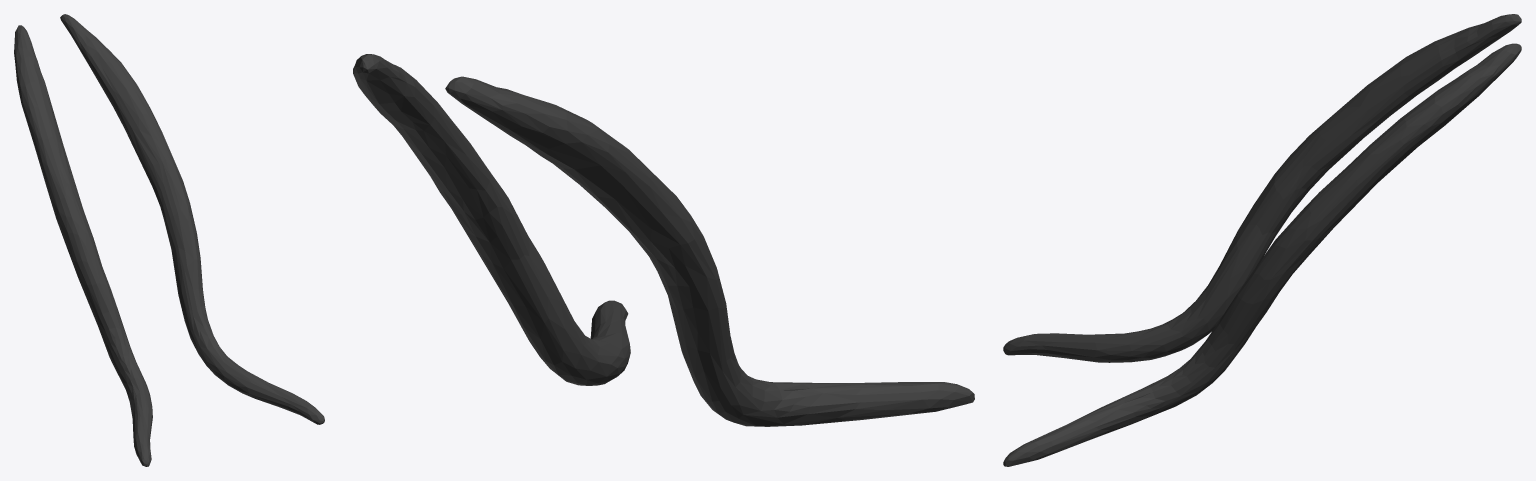
Rendered from m_longissimus_atlantis.glb.
The picture shows the model from 3 angles, left to right: view 1: azimuth 30°, elevation 25°; view 2: azimuth 150°, elevation 25°; view 3: azimuth 270°, elevation 25°; orthographic projection. The views are drawn at different scales.
Parts seen in each view (by area): view 1: m_longissimus_atlantis; view 2: m_longissimus_atlantis; view 3: m_longissimus_atlantis.
Part boxes in pixels (x1,y1,x2,y2): m_longissimus_atlantis: [14, 14, 324, 466]; m_longissimus_atlantis: [353, 54, 974, 426]; m_longissimus_atlantis: [1003, 14, 1521, 466].
Bounding box in the file's own units: 0.00173 × 0.00259 × 0.00319.
1 material, 1 textured.
